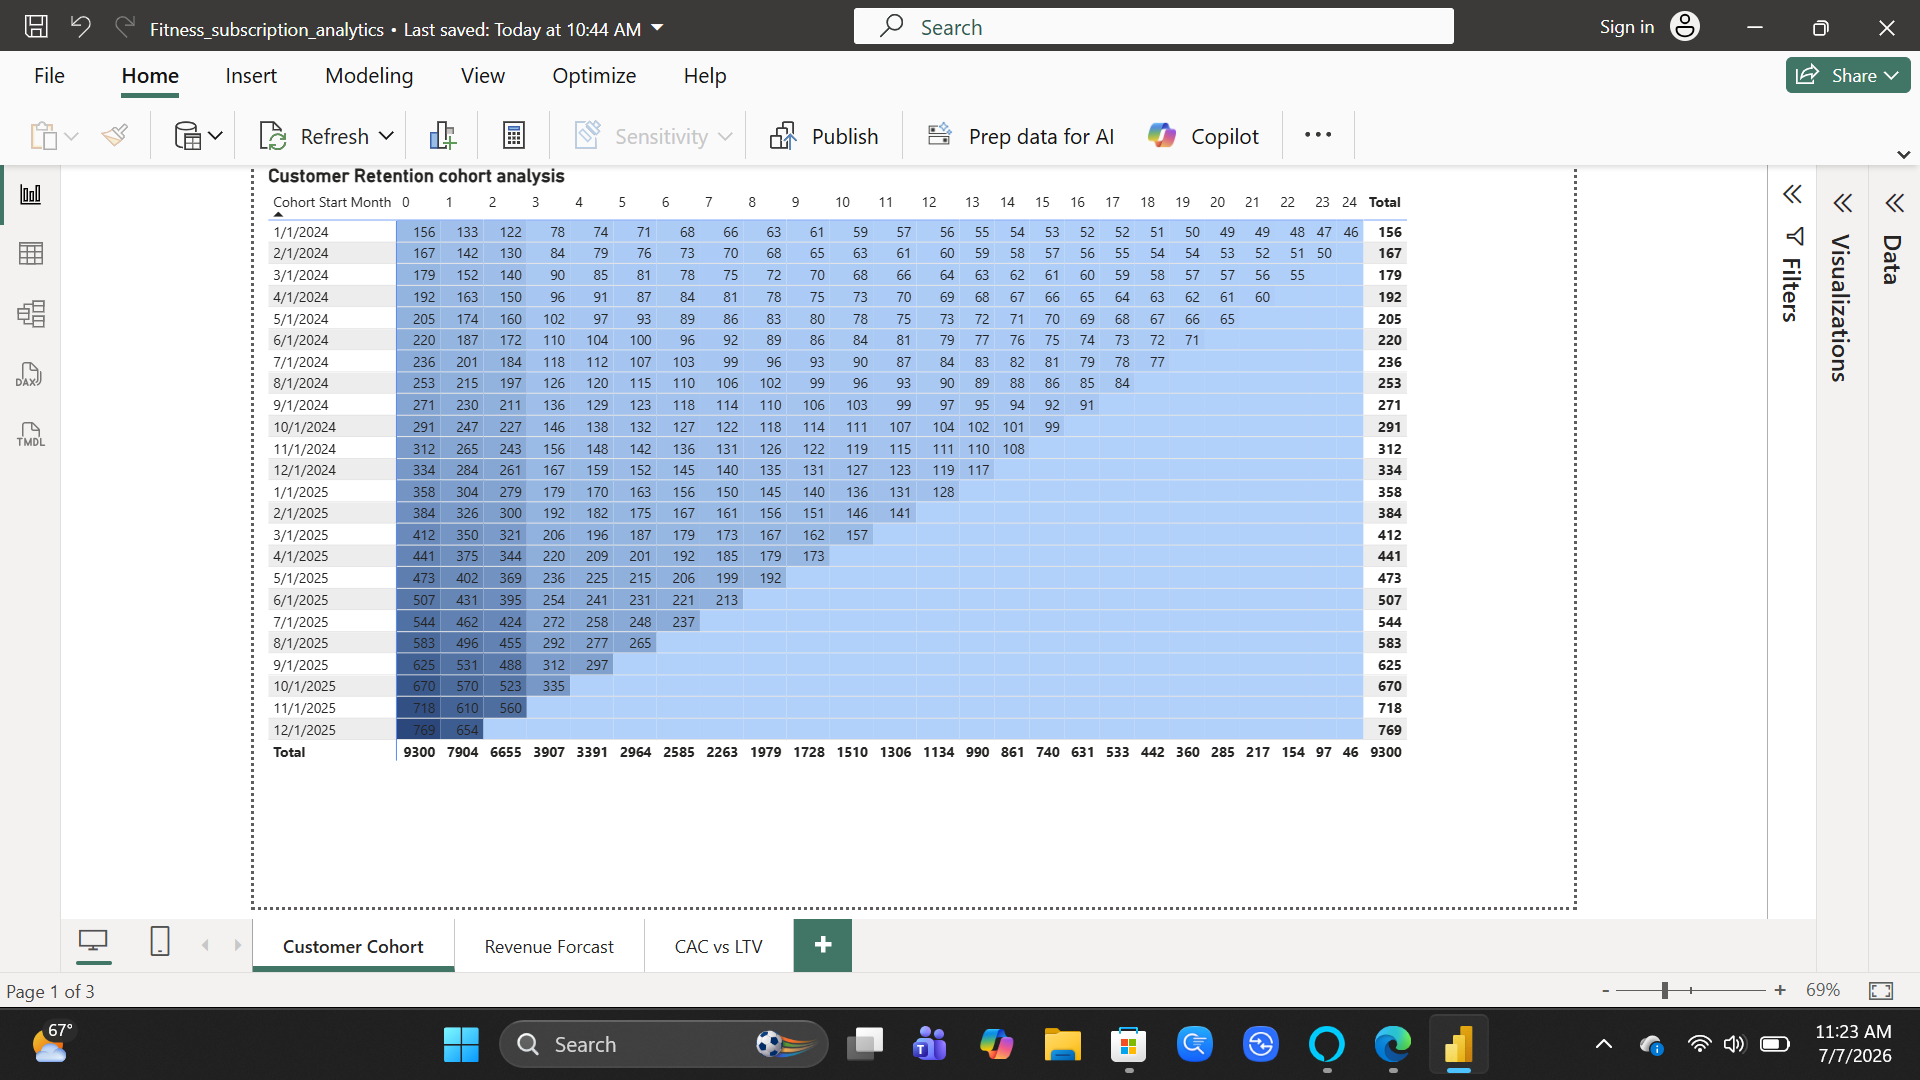

The dashboard page shown, as its layout file describes it:
{"tool":"powerbi","page":{"name":"Customer Cohort","canvas":[1280,720],"ordinal":0},"visuals":[{"type":"pivotTable","title":"Customer Retention cohort analysis","fields":{"Rows":["customers.Cohort Start Month"],"Columns":["transactions.Months Since Signup"],"Values":["transactions.Active Customers"]},"box":[9.4,0,1154.7,585.8],"z":0}]}

Visuals, with their boxes on the page's 1280x720 design canvas (x1, y1, x2, y2). These are canvas units, not pixel positions in the 1920x1080 screenshot, which may show the page scaled, cropped or inside an application window:
"Customer Retention cohort analysis" pivotTable: [9,0,1164,586]
